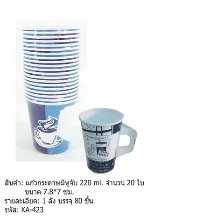paper_cup: (18, 21, 83, 157), (74, 104, 141, 177)
